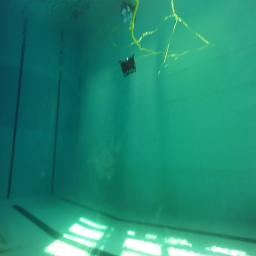front: (118, 54, 137, 76)
